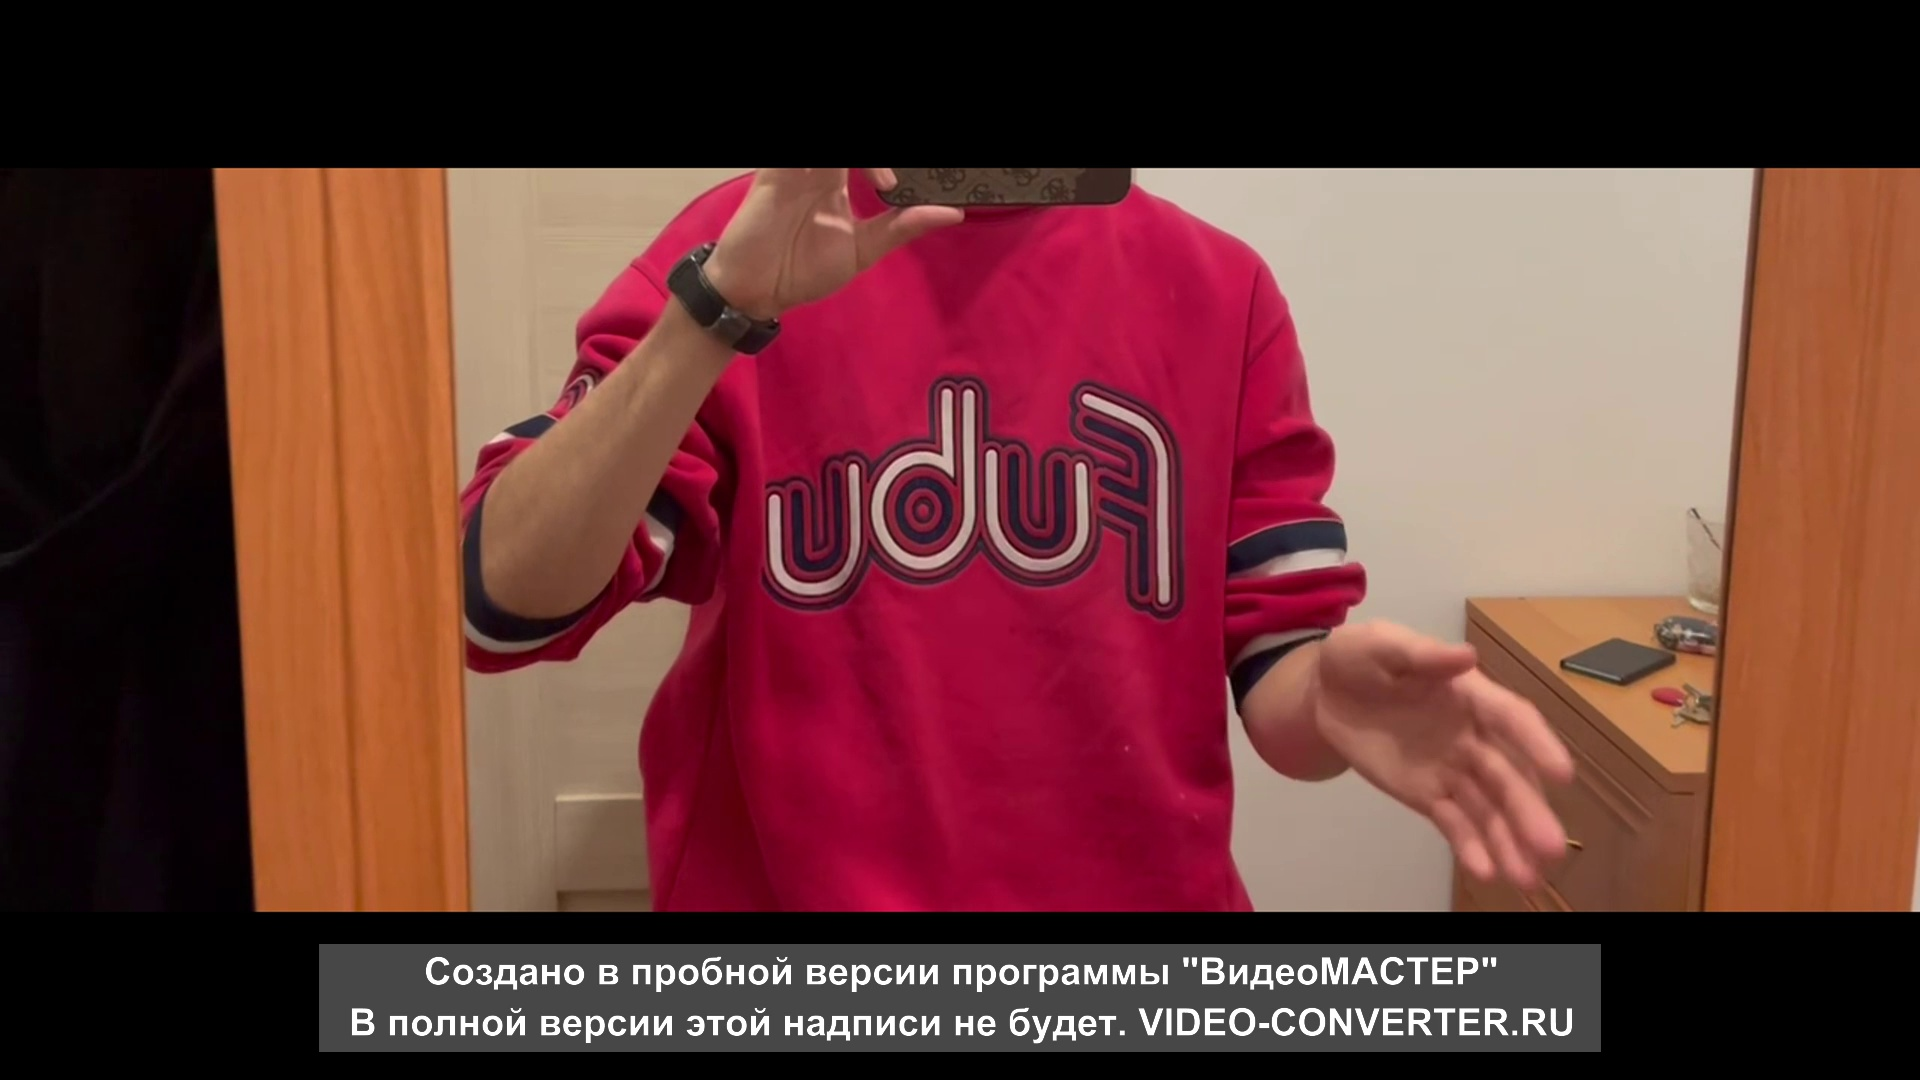Ладонь: (1320, 618, 1573, 889)
